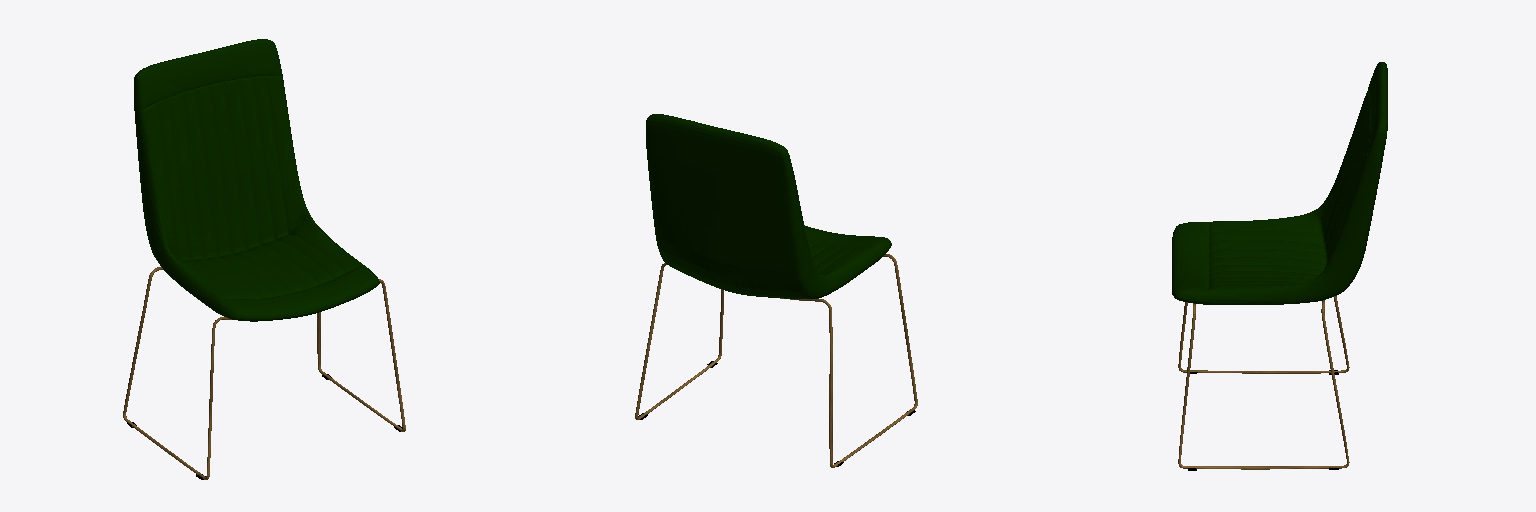
3 views of the same model, side by side, from view 1: azimuth 30°, elevation 25°; view 2: azimuth 150°, elevation 25°; view 3: azimuth 270°, elevation 25° (orthographic).
Visible parts, largest first — view 1: LP_FORMCHAIR_Plane.002, FORMBASE_LP_STALLSEAT.001; view 2: LP_FORMCHAIR_Plane.002, FORMBASE_LP_STALLSEAT.001; view 3: LP_FORMCHAIR_Plane.002, FORMBASE_LP_STALLSEAT.001.
Boxes of the visible parts, box(x1,y1,x2,y2) form: LP_FORMCHAIR_Plane.002: box(134, 39, 379, 321); FORMBASE_LP_STALLSEAT.001: box(123, 267, 405, 479); LP_FORMCHAIR_Plane.002: box(646, 114, 891, 298); FORMBASE_LP_STALLSEAT.001: box(635, 254, 917, 467); LP_FORMCHAIR_Plane.002: box(1172, 62, 1387, 304); FORMBASE_LP_STALLSEAT.001: box(1178, 296, 1349, 469).
Bounding box in the file's own units: 0.755 × 1.18 × 0.6942.
Materials: 3 (1 with a texture image).